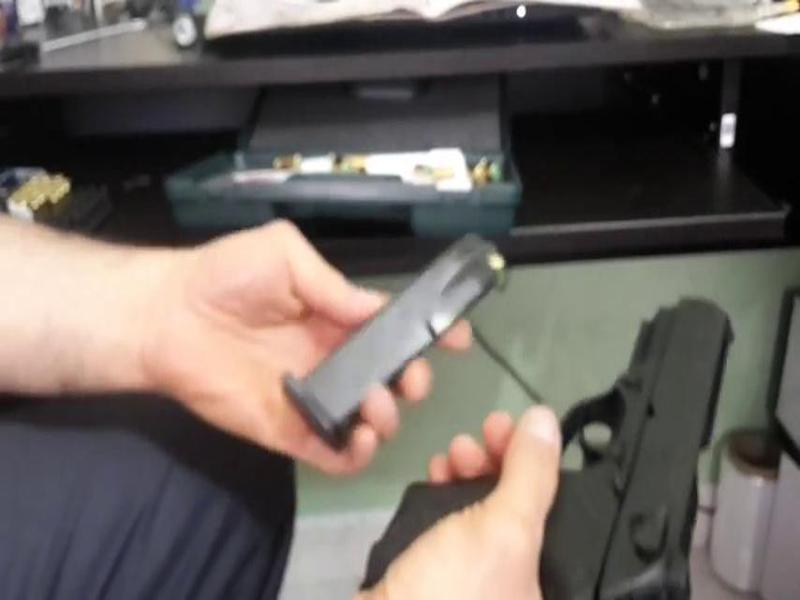Pistola: (498, 271, 754, 600)
